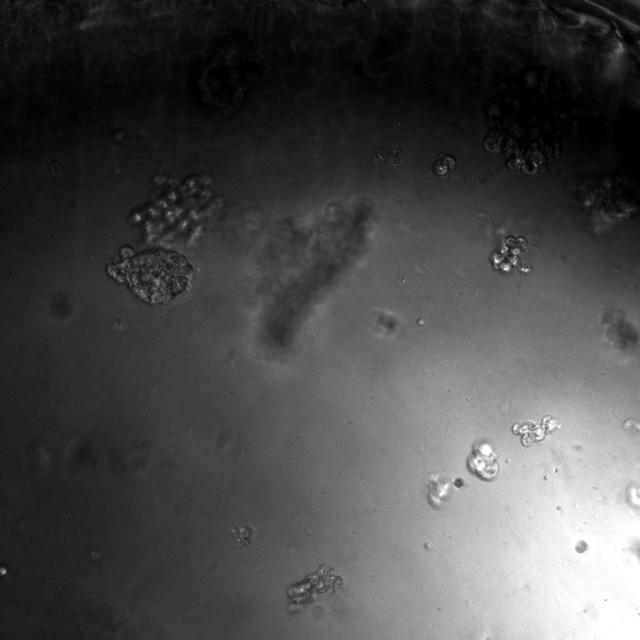organoid: (129, 174, 222, 247), (106, 245, 194, 306), (484, 129, 544, 177), (288, 563, 342, 612), (490, 235, 530, 274), (512, 415, 561, 446), (468, 439, 499, 479), (432, 154, 456, 177)
